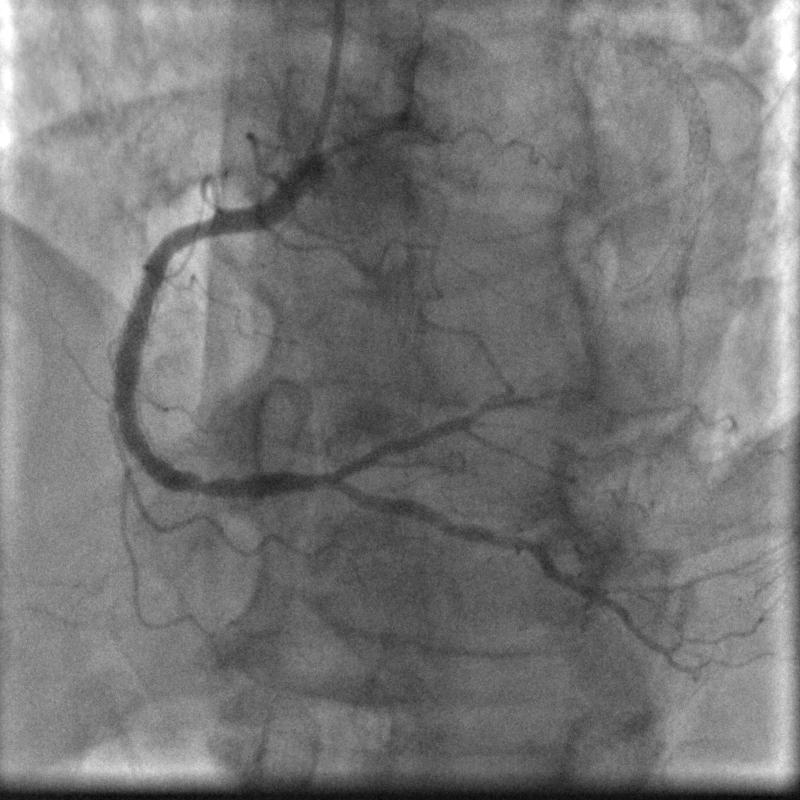Stenosis: (178, 213, 217, 253)
